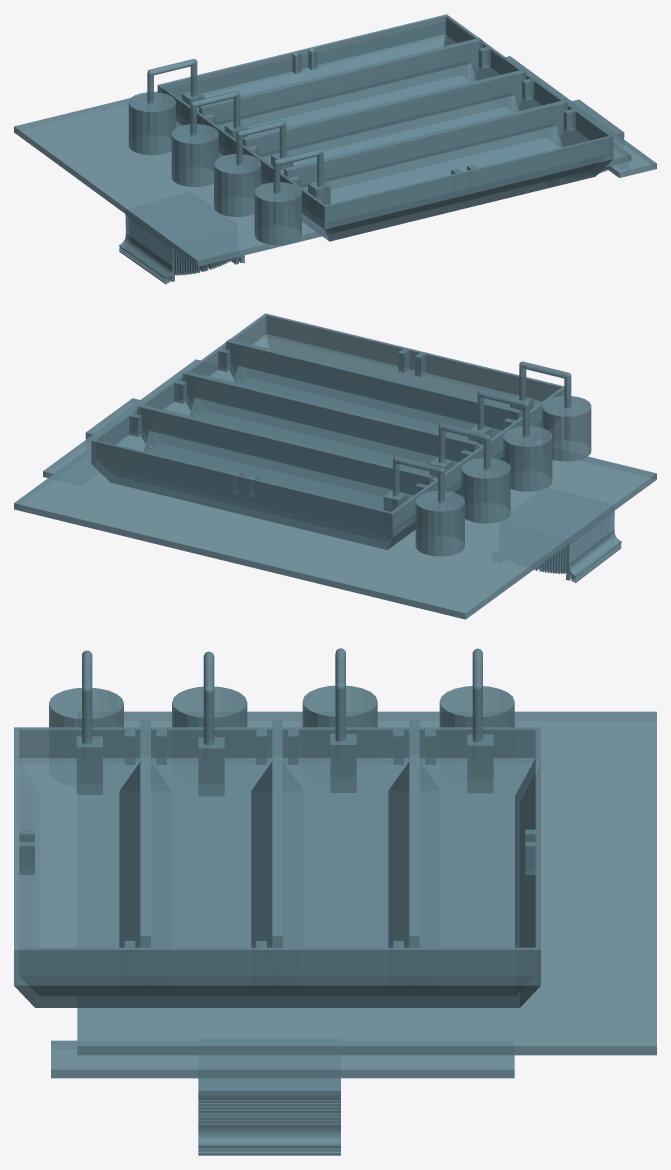
Rendered from behaviour-chamber.glb.
3 views of the same model, one above another, from view 1: azimuth 30°, elevation 25°; view 2: azimuth 150°, elevation 25°; view 3: azimuth 270°, elevation 25° (orthographic). The views are drawn at different scales.
Visible parts, largest first — view 1: behaviour.stl; view 2: behaviour.stl; view 3: behaviour.stl.
Part boxes in pixels (x1,y1,x2,y2): behaviour.stl: (14,14,656,284); behaviour.stl: (14,313,656,619); behaviour.stl: (14,648,656,1155).
Bounding box in the file's own units: 0.1631 × 0.043 × 0.122.
